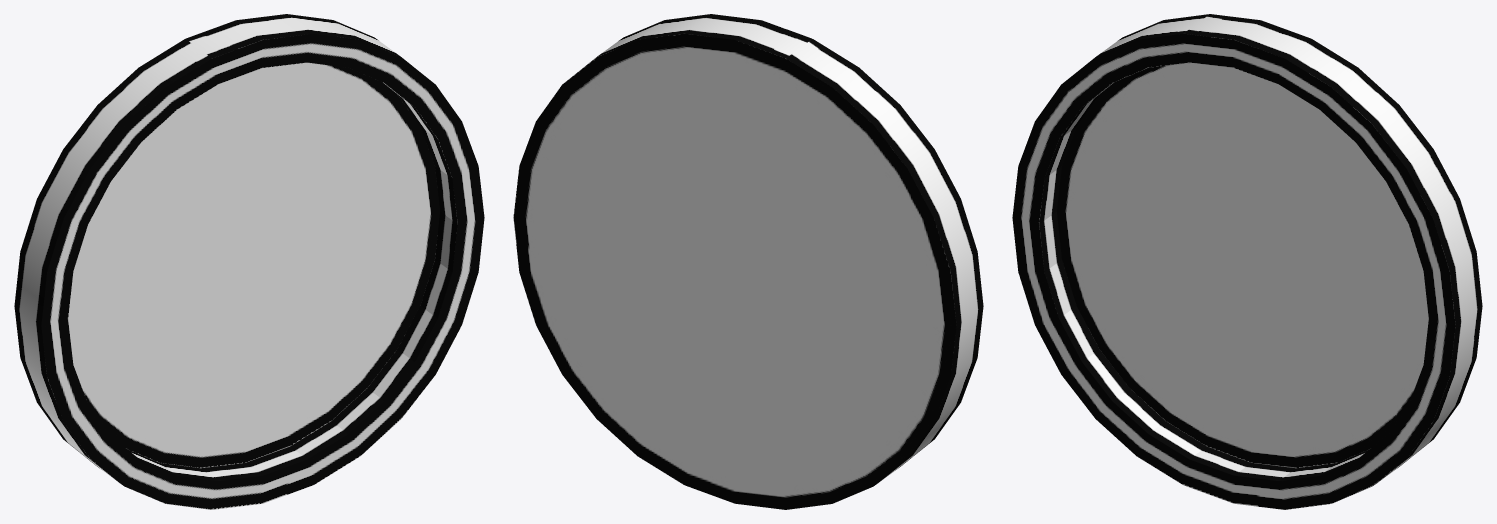
The model's file is fridgeButton.FBX.
3 renders of one model, left to right at view 1: azimuth 30°, elevation 25°; view 2: azimuth 150°, elevation 25°; view 3: azimuth 330°, elevation 25°, orthographic.
Visible parts, largest first — view 1: Circle003; view 2: Circle003; view 3: Circle003.
Boxes of the visible parts, <box> form: Circle003: <box>14,14,484,509</box>; Circle003: <box>513,14,983,509</box>; Circle003: <box>1012,14,1482,509</box>.
Bounding box in the file's own units: 23.76 × 23.76 × 2.5.
